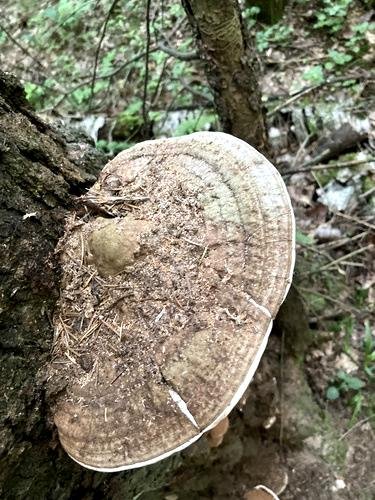Ganoderma - Fruit Body: (58, 129, 297, 473)
